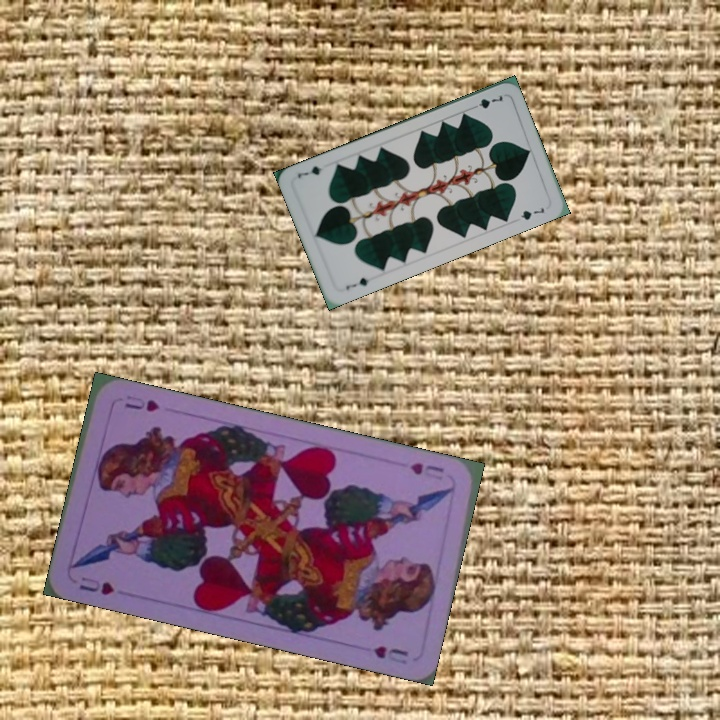G7: (467, 91, 507, 112), (342, 273, 376, 293)
HU: (75, 572, 117, 598), (406, 458, 447, 484)
